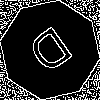D: (25, 25, 81, 83)
